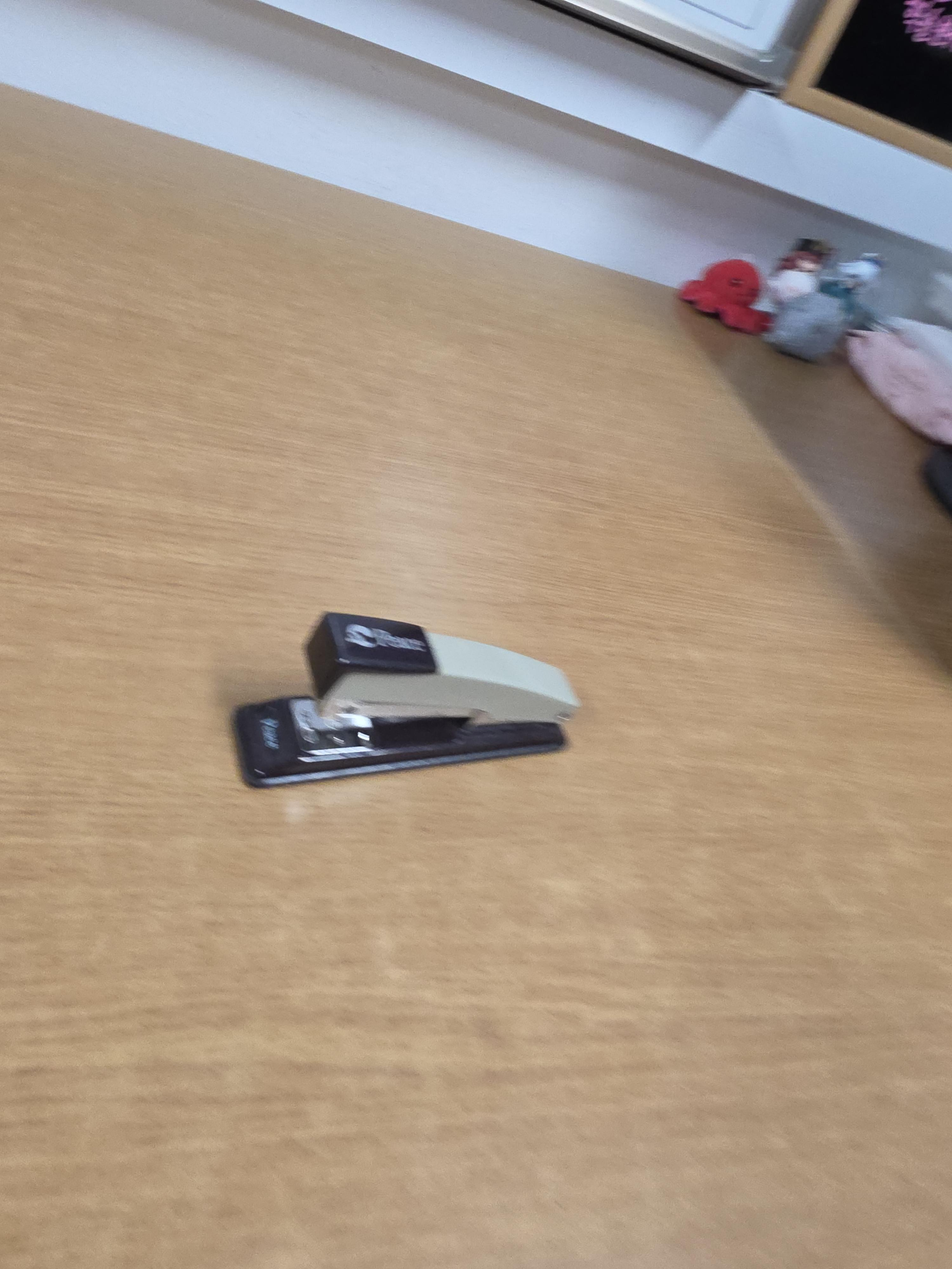stapler: (231, 610, 584, 790)
